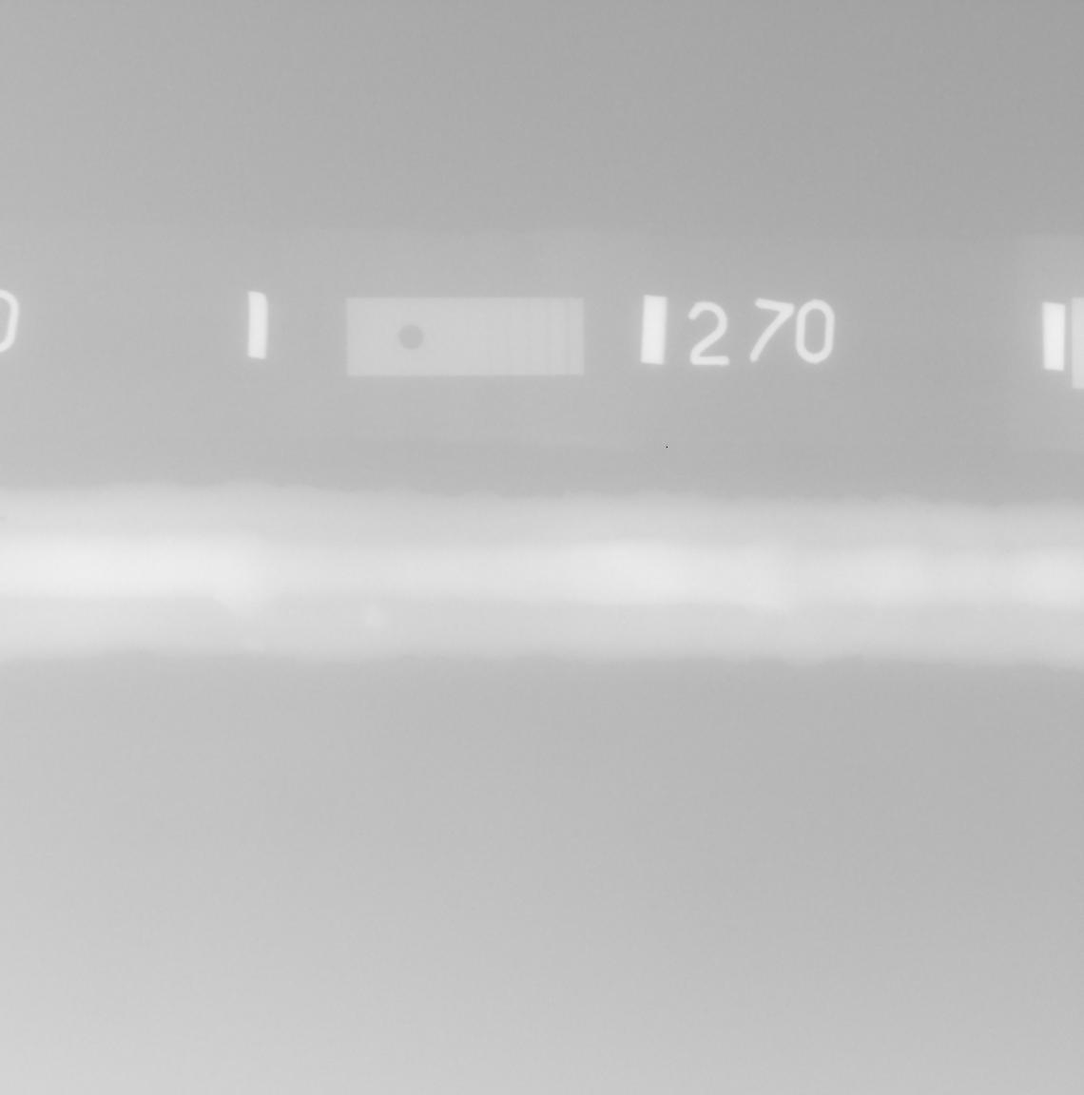Pore/Porosity: (0, 517, 5, 522)
Reference Standard 1: (345, 297, 584, 377)
